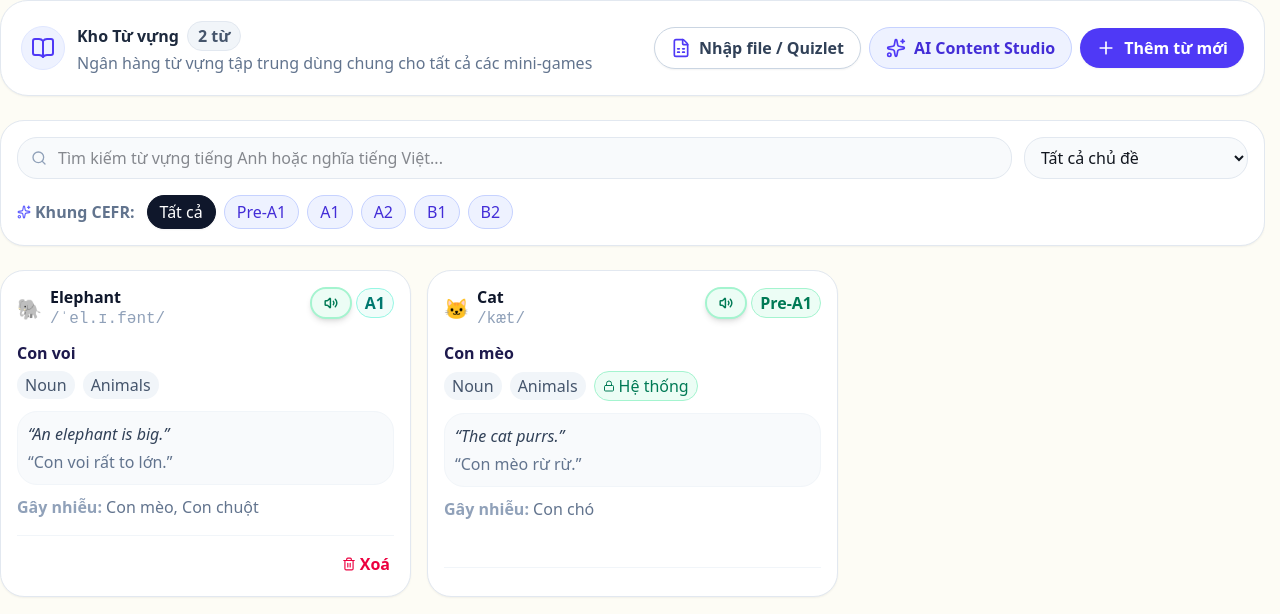
Test case: WordBankList Component › filters words based on search term
The image size is (1280, 614).
Type "Eleph" into the field with placeholder "Tìm kiếm từ vựng tiếng Anh hoặc nghĩa tiếng Việt..." at x=514, y=158, box top-left (17, 137), bottom-right (1012, 179)
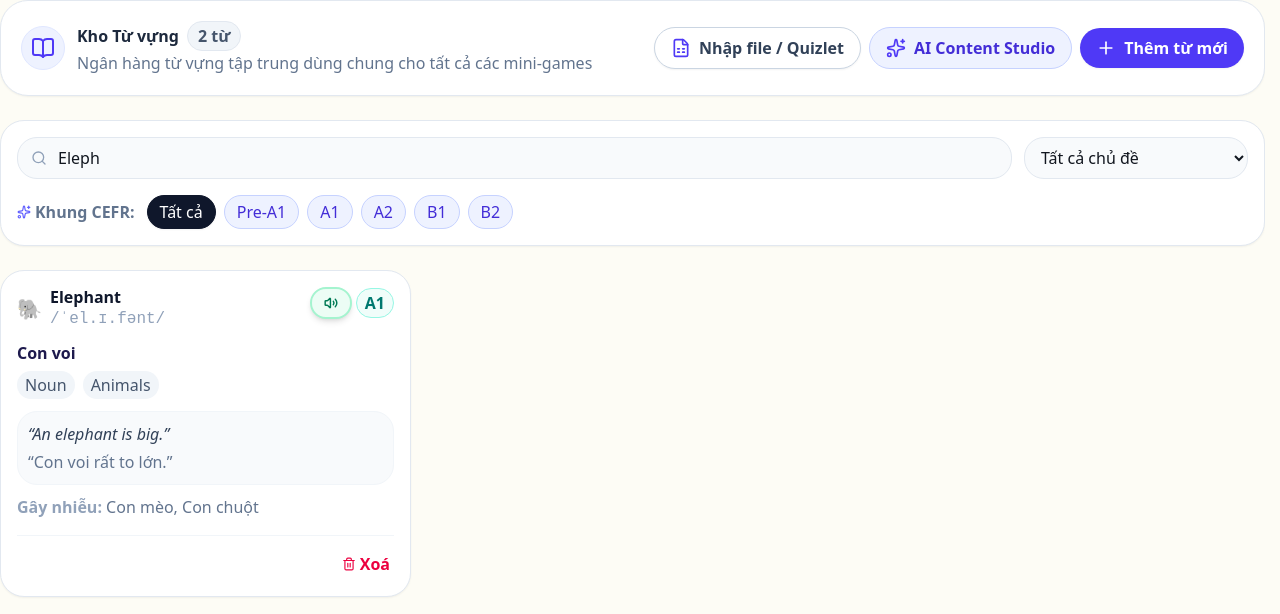
Expected: the heading "Elephant" is shown, top-left (50, 286), bottom-right (121, 308)
Expected: the heading "Cat" is gone
